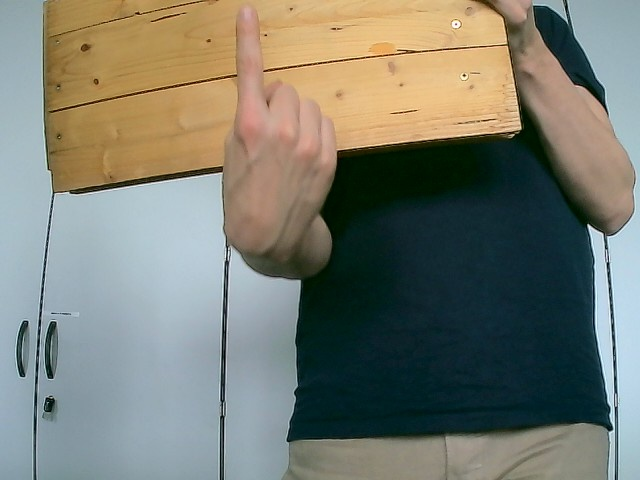up: (220, 4, 339, 280)
